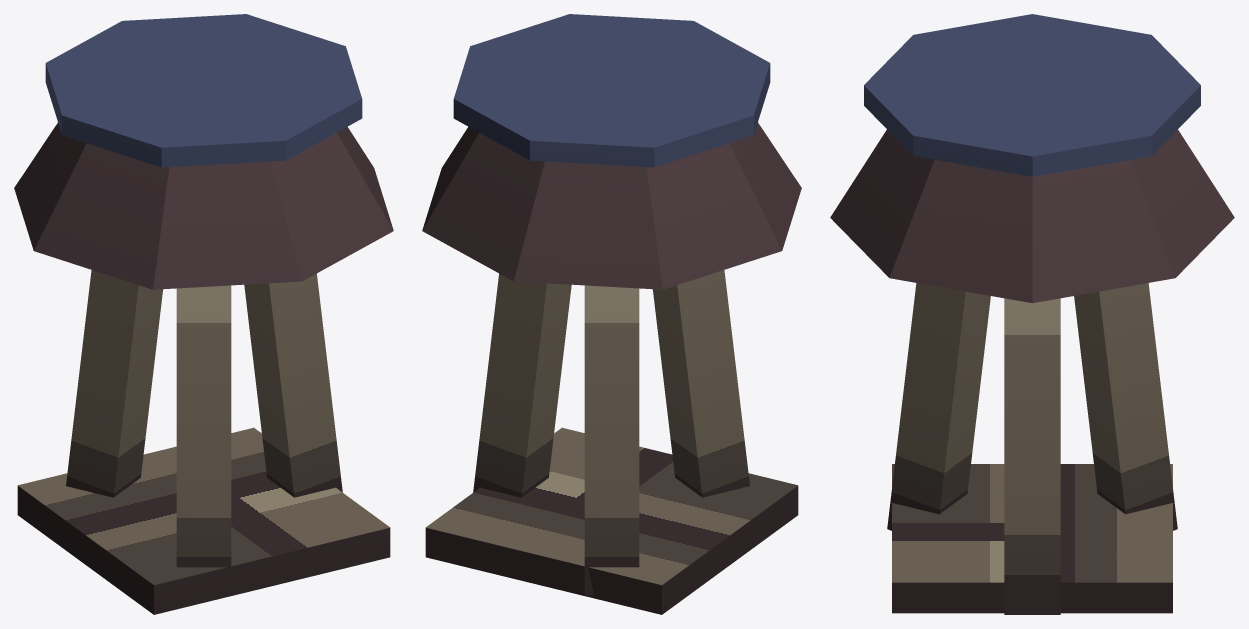
Rendered from brazier.glb.
The picture shows the model from 3 angles, left to right: view 1: azimuth 30°, elevation 25°; view 2: azimuth 150°, elevation 25°; view 3: azimuth 270°, elevation 25°; orthographic projection. The views are drawn at different scales.
Visible parts, largest first — view 1: brazier; view 2: brazier; view 3: brazier.
Part boxes in pixels (x1,y1,x2,y2): brazier: (14, 14, 393, 614); brazier: (422, 14, 801, 614); brazier: (830, 14, 1234, 614).
Bounding box in the file's own units: 0.72 × 0.926 × 0.72.
2 materials, 1 textured.
